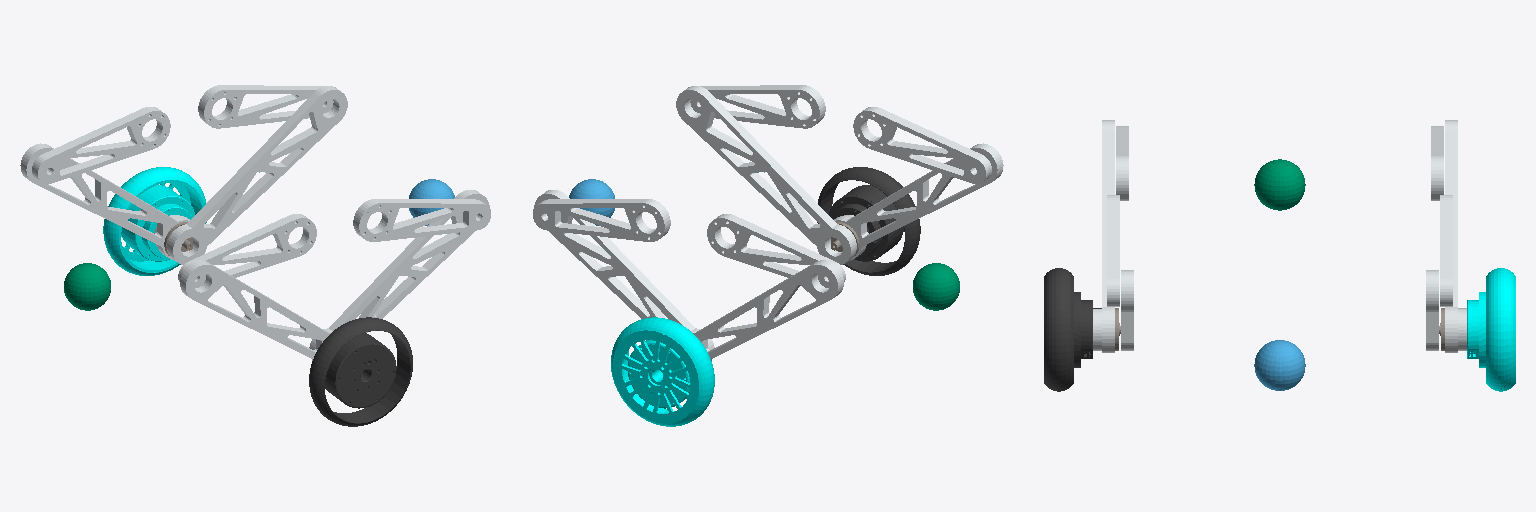
URDF robot description (hector_gazebo):
<?xml version="1.0" encoding="utf-8"?>
<!--
This URDF was automatically created by SolidWorks to URDF Exporter! Originally created by [author] ([email redacted])
Commit Version: 1.6.0-4-g7f85cfe  Build Version: 1.6.7995.38578
For more information, please see http://wiki.ros.org/sw_urdf_exporter
-->
<robot name="hector_gazebo">

	<transmission name="l_f_mt_tran">
		<type>transmission_interface/SimpleTransmission</type>
		<joint name="l_f_mt_joint">
			<hardwareInterface>hardware_interface/EffortJointInterface</hardwareInterface>
		</joint>
		<actuator name="l_f_mt_motor">
			<hardwareInterface>hardware_interface/EffortJointInterface</hardwareInterface>
			<mechanicalReduction>1</mechanicalReduction>
		</actuator>
	</transmission>

	<transmission name="l_b_mt_tran">
		<type>transmission_interface/SimpleTransmission</type>
		<joint name="l_b_mt_joint">
			<hardwareInterface>hardware_interface/EffortJointInterface</hardwareInterface>
		</joint>
		<actuator name="l_b_mt_motor">
			<hardwareInterface>hardware_interface/EffortJointInterface</hardwareInterface>
			<mechanicalReduction>1</mechanicalReduction>
		</actuator>
	</transmission>

	<transmission name="l_wheel_tran">
		<type>transmission_interface/SimpleTransmission</type>
		<joint name="l_wheel_joint">
			<hardwareInterface>hardware_interface/EffortJointInterface</hardwareInterface>
		</joint>
		<actuator name="l_wheel_motor">
			<hardwareInterface>hardware_interface/EffortJointInterface</hardwareInterface>
			<mechanicalReduction>1</mechanicalReduction>
		</actuator>
	</transmission>

	<transmission name="r_f_mt_tran">
		<type>transmission_interface/SimpleTransmission</type>
		<joint name="r_f_mt_joint">
			<hardwareInterface>hardware_interface/EffortJointInterface</hardwareInterface>
		</joint>
		<actuator name="r_f_mt_motor">
			<hardwareInterface>hardware_interface/EffortJointInterface</hardwareInterface>
			<mechanicalReduction>1</mechanicalReduction>
		</actuator>
	</transmission>

	<transmission name="r_b_mt_tran">
		<type>transmission_interface/SimpleTransmission</type>
		<joint name="r_b_mt_joint">
			<hardwareInterface>hardware_interface/EffortJointInterface</hardwareInterface>
		</joint>
		<actuator name="r_b_mt_motor">
			<hardwareInterface>hardware_interface/EffortJointInterface</hardwareInterface>
			<mechanicalReduction>1</mechanicalReduction>
		</actuator>
	</transmission>

	<transmission name="r_wheel_tran">
		<type>transmission_interface/SimpleTransmission</type>
		<joint name="r_wheel_joint">
			<hardwareInterface>hardware_interface/EffortJointInterface</hardwareInterface>
		</joint>
		<actuator name="r_wheel_motor">
			<hardwareInterface>hardware_interface/EffortJointInterface</hardwareInterface>
			<mechanicalReduction>1</mechanicalReduction>
		</actuator>
	</transmission>

	<!-- <link name="virtual_pitch_link">
	</link> -->
	<!-- <joint name="base_link_virtual_pitch_joint" type="revolute">
		<origin xyz="0.0 0 0" rpy="0 0 0" />
		<parent link="virtual_pitch_link" />
		<child link="base_link" />
		<axis xyz="0 1 0" />
		<limit lower="-3.14" upper="3.14" effort="21" velocity="21" />
	</joint> -->

	<link name="base_link">
		<inertial>
			<origin xyz="-0.00044958 -1.247E-05 -0.0266506" rpy="0 0 0" />
			<mass value="6.23175715" />
			<inertia ixx="0.13614361" ixy="-0.00014781" ixz="-0.00043513" iyy="0.06800572" iyz="-0.00028023" izz="0.18109383" />
		</inertial>
		<visual>
			<origin xyz="0 0 0" rpy="0 0 0" />
			<geometry>
				<mesh filename="package://ph_0320_01/meshes/base_link.STL" />
			</geometry>
			<material name="">
				<color rgba="0.75294 0.75294 0.75294 1" />
			</material>
		</visual>
		<collision>
			<!-- <origin xyz="0 0 0" rpy="0 0 0" />
			<geometry>
				<mesh filename="package://ph_0320_01/meshes/base_link.STL" />
			</geometry> -->
			<origin xyz="0 0 0" rpy="0 0 0" />
			<geometry>
				<box size="0.1 0.1 0.1" />
			</geometry>

		</collision>
	</link>

	<link name="front_wheel_link">
		<inertial>
			<origin xyz="0 0 0" rpy="0 0 0" />
			<mass value="0.0001" />
			<inertia ixx="0" ixy="0" ixz="0" iyy="0" iyz="0" izz="0" />
		</inertial>
		<visual>
			<origin xyz="0 0 0" rpy="0 0 0" />
			<geometry>
				<sphere radius="0.03"/>
			</geometry>
		</visual>
		<collision>
			<origin xyz="0 0 0" rpy="0 0 0" />
			<geometry>
				<sphere radius="0.03"/>
			</geometry>
		</collision>
	</link>
	<joint name="front_wheel_joint" type="continuous">
		<origin xyz="0.25 0 -0.1" rpy="0 0 0" />
		<parent link="base_link" />
		<child link="front_wheel_link" />
		<axis xyz="0 1 0" />
		<limit effort="21" velocity="21" />
	</joint>

	<link name="back_wheel_link">
		<inertial>
			<origin xyz="0 0 0" rpy="0 0 0" />
			<mass value="0.0001" />
			<inertia ixx="0" ixy="0" ixz="0" iyy="0" iyz="0" izz="0" />
		</inertial>
		<visual>
			<origin xyz="0 0 0" rpy="0 0 0" />
			<geometry>
				<sphere radius="0.03" />
			</geometry>
		</visual>
		<collision>
			<origin xyz="0 0 0" rpy="0 0 0" />
			<geometry>
				<sphere radius="0.03" />
			</geometry>
		</collision>
	</link>
	<joint name="back_wheel_joint" type="continuous">
		<origin xyz="-0.25 0 -0.1" rpy="0 0 0" />
		<parent link="base_link" />
		<child link="back_wheel_link" />
		<axis xyz="0 1 0" />
		<limit effort="21" velocity="21" />
	</joint>

	<link name="l_f_mt_link">
		<inertial>
			<origin xyz="0.065203 -0.0075 -0.012318" rpy="0 0 0" />
			<mass value="0.1952" />
			<inertia ixx="6.5309E-05" ixy="-1.1987E-18" ixz="0.00010178" iyy="0.00071046" iyz="2.2543E-19" izz="0.00065247" />
		</inertial>
		<visual>
			<origin xyz="0 0 0" rpy="0 0 0" />
			<geometry>
				<mesh filename="package://ph_0320_01/meshes/l_f_mt_link.STL" />
			</geometry>
			<material name="">
				<color rgba="0.89804 0.91765 0.92941 1" />
			</material>
		</visual>
		<collision>
			<!-- <origin xyz="0 0 0" rpy="0 0 0" />
			<geometry>
				<mesh filename="package://ph_0320_01/meshes/l_f_mt_link.STL" />
			</geometry> -->
			<origin xyz="0 0 0" rpy="0 0 0" />
			<geometry>
				<box size="0.01 0.01 0.01" />
			</geometry>
		</collision>
	</link>
	<joint name="l_f_mt_joint" type="revolute">
		<origin xyz="0.054 0.2025 0" rpy="0 0 0" />
		<parent link="base_link" />
		<child link="l_f_mt_link" />
		<axis xyz="0 1 0" />
		<limit lower="-0.5" upper="1.3" effort="21" velocity="21" />
	</joint>
	<link name="l_f_calf_link">
		<inertial>
			<origin xyz="-0.10183 -0.024 -0.072928" rpy="0 0 0" />
			<mass value="0.33548" />
			<inertia ixx="0.00092843" ixy="1.5198E-19" ixz="-0.0012109" iyy="0.0027191" iyz="1.3188E-19" izz="0.0018032" />
		</inertial>
		<visual>
			<origin xyz="0 0 0" rpy="0 0 0" />
			<geometry>
				<mesh filename="package://ph_0320_01/meshes/l_f_calf_link.STL" />
			</geometry>
			<material name="">
				<color rgba="0.89804 0.91765 0.92941 1" />
			</material>
		</visual>
		<collision>
			<origin xyz="0 0 0" rpy="0 0 0" />
			<geometry>
				<box size="0.01 0.01 0.01" />
			</geometry>
			<!-- <origin xyz="0 0 0" rpy="0 0 0" />
			<geometry>
				<mesh filename="package://ph_0320_01/meshes/l_f_calf_link.STL" />
			</geometry> -->
		</collision>
	</link>
	<joint name="l_f_calf_joint" type="continuous">
		<origin xyz="0.14759 0 -0.026755" rpy="0 0 0" />
		<parent link="l_f_mt_link" />
		<child link="l_f_calf_link" />
		<axis xyz="0 1 0" />
	</joint>
	<link name="l_f_ankle_link">
		<inertial>
			<origin xyz="-1.3097E-14 -0.013355 -9.7145E-16" rpy="0 0 0" />
			<mass value="0.058741" />
			<inertia ixx="8.5044E-06" ixy="1.2172E-21" ixz="1.131E-21" iyy="1.4613E-05" iyz="2.3265E-21" izz="8.5044E-06" />
		</inertial>
		<visual>
			<origin xyz="0 0 0" rpy="0 0 0" />
			<geometry>
				<mesh filename="package://ph_0320_01/meshes/l_f_ankle_link.STL" />
			</geometry>
			<material name="">
				<color rgba="0.64706 0.61961 0.58824 1" />
			</material>
		</visual>
		<collision>
			<origin xyz="0.0 -0.02 0" rpy="0 0 0" />
			<geometry>
				<box size="0.01 0.01 0.01" />
			</geometry>
			<!-- <origin xyz="0 0 0" rpy="0 0 0" />
			<geometry>
				<mesh filename="package://ph_0320_01/meshes/l_f_ankle_link.STL" />
			</geometry> -->
		</collision>
	</link>
	<joint name="l_f_ankle_joint" type="fixed">
		<origin xyz="-0.20382 0 -0.14477" rpy="0 0 0" />
		<parent link="l_f_calf_link" />
		<child link="l_f_ankle_link" />
		<axis xyz="0 1 0" />
	</joint>
	<link name="l_wheel_link">
		<inertial>
			<origin xyz="6.7739E-06 -0.003652 4.26E-06" rpy="0 0 0" />
			<mass value="0.43397" />
			<inertia ixx="0.0005395" ixy="-3.2822E-08" ixz="1.2521E-08" iyy="0.0010009" iyz="2.8724E-09" izz="0.0005395" />
		</inertial>
		<visual>
			<origin xyz="0 0 0" rpy="0 0 0" />
			<!-- <origin xyz="0 -0.01 0" rpy="1.570796327948966 0 0" /> -->
			<geometry>
				<mesh filename="package://ph_0320_01/meshes/l_wheel_link.STL" />
				<!-- <cylinder radius="0.0725" length="0.03" /> -->
			</geometry>
			<material name="">
				<color rgba="0 1 1 1" />
			</material>
		</visual>
		<collision>
			<origin xyz="0 0 0" rpy="0 0 0" />
			<!-- <origin xyz="0 -0.01 0" rpy="1.570796327948966 0 0" /> -->
			<geometry>
				<mesh filename="package://ph_0320_01/meshes/l_wheel_link.STL" />
				<!-- <cylinder radius="0.0725" length="0.03" /> -->
			</geometry>
		</collision>
	</link>
	<joint name="l_wheel_joint" type="continuous">
		<origin xyz="0 0.0562 0" rpy="0 0 0" />
		<parent link="l_f_ankle_link" />
		<child link="l_wheel_link" />
		<axis xyz="0 1 0" />
		<limit effort="21" velocity="210" />
	</joint>
	<link name="l_b_mt_link">
		<inertial>
			<origin xyz="-0.065581 -0.0185 -0.010115" rpy="0 0 0" />
			<mass value="0.1952" />
			<inertia ixx="5.9126E-05" ixy="2.3573E-19" ixz="-8.179E-05" iyy="0.00071046" iyz="9.8375E-20" izz="0.00065865" />
		</inertial>
		<visual>
			<origin xyz="0 0 0" rpy="0 0 0" />
			<geometry>
				<mesh filename="package://ph_0320_01/meshes/l_b_mt_link.STL" />
			</geometry>
			<material name="">
				<color rgba="0.89804 0.91765 0.92941 1" />
			</material>
		</visual>
		<collision>
			<origin xyz="0.0 0.0 0" rpy="0 0 0" />
			<geometry>
				<box size="0.01 0.01 0.01" />
			</geometry>
			<!-- <origin xyz="0 0 0" rpy="0 0 0" />
			<geometry>
				<mesh filename="package://ph_0320_01/meshes/l_b_mt_link.STL" />
			</geometry> -->
		</collision>
	</link>
	<joint name="l_b_mt_joint" type="revolute">
		<origin xyz="-0.054 0.2025 0" rpy="0 0 0" />
		<parent link="base_link" />
		<child link="l_b_mt_link" />
		<axis xyz="0 1 0" />
		<limit lower="-1.3" upper="0.5" effort="21" velocity="21" />
	</joint>
	<link name="l_b_calf_link">
		<inertial>
			<origin xyz="0.1018 -0.002 -0.075545" rpy="0 0 0" />
			<mass value="0.33882" />
			<inertia ixx="0.0010466" ixy="2.1185E-19" ixz="0.0012744" iyy="0.0028007" iyz="-1.5746E-19" izz="0.0017669" />
		</inertial>
		<visual>
			<origin xyz="0 0 0" rpy="0 0 0" />
			<geometry>
				<mesh filename="package://ph_0320_01/meshes/l_b_calf_link.STL" />
			</geometry>
			<material name="">
				<color rgba="0.89804 0.91765 0.92941 1" />
			</material>
		</visual>
		<collision>
			<origin xyz="0.0 0.0 0" rpy="0 0 0" />
			<geometry>
				<box size="0.01 0.01 0.01" />
			</geometry>
			<!-- <origin xyz="0 0 0" rpy="0 0 0" />
			<geometry>
				<mesh filename="package://ph_0320_01/meshes/l_b_calf_link.STL" />
			</geometry> -->
		</collision>
	</link>
	<joint name="l_b_calf_joint" type="continuous">
		<origin xyz="-0.14841 0 -0.021771" rpy="0 0 0" />
		<parent link="l_b_mt_link" />
		<child link="l_b_calf_link" />
		<axis xyz="0 1 0" />
	</joint>
	<link name="l_b_ankle_link">
		<inertial>
			<origin xyz="4.4235E-16 0.011 8.3267E-17" rpy="0 0 0" />
			<mass value="0.035754" />
			<inertia ixx="7.9369E-06" ixy="6.0657E-22" ixz="2.482E-21" iyy="1.5153E-05" iyz="7.0455E-22" izz="7.9369E-06" />
		</inertial>
		<visual>
			<origin xyz="0 0 0" rpy="0 0 0" />
			<geometry>
				<mesh filename="package://ph_0320_01/meshes/l_b_ankle_link.STL" />
			</geometry>
			<material name="">
				<color rgba="0.89804 0.91765 0.92941 1" />
			</material>
		</visual>
		<collision>
			<origin xyz="0.0 0.02 0" rpy="0 0 0" />
			<geometry>
				<box size="0.01 0.01 0.01" />
			</geometry>
			<!-- <origin xyz="0 0 0" rpy="0 0 0" />
			<geometry>
				<mesh filename="package://ph_0320_01/meshes/l_b_ankle_link.STL" />
			</geometry> -->
		</collision>
	</link>
	<joint name="l_b_ankle_joint" type="continuous">
		<origin xyz="0.20019 0 -0.14975" rpy="0 0 0" />
		<parent link="l_b_calf_link" />
		<child link="l_b_ankle_link" />
		<axis xyz="0 1 0" />
		<limit effort="21" velocity="210" />
	</joint>
	<link name="r_f_mt_link">
		<inertial>
			<origin xyz="0.065203 0.0075 -0.012318" rpy="0 0 0" />
			<mass value="0.1952" />
			<inertia ixx="6.5309E-05" ixy="1.1742E-18" ixz="0.00010178" iyy="0.00071046" iyz="-2.1495E-19" izz="0.00065247" />
		</inertial>
		<visual>
			<origin xyz="0 0 0" rpy="0 0 0" />
			<geometry>
				<mesh filename="package://ph_0320_01/meshes/r_f_mt_link.STL" />
			</geometry>
			<material name="">
				<color rgba="0.89804 0.91765 0.92941 1" />
			</material>
		</visual>
		<collision>
			<origin xyz="0.0 0.0 0" rpy="0 0 0" />
			<geometry>
				<box size="0.01 0.01 0.01" />
			</geometry>
			<!-- <origin xyz="0 0 0" rpy="0 0 0" />
			<geometry>
				<mesh filename="package://ph_0320_01/meshes/r_f_mt_link.STL" />
			</geometry> -->
		</collision>
	</link>
	<joint name="r_f_mt_joint" type="revolute">
		<origin xyz="0.054 -0.2025 0" rpy="0 0 0" />
		<parent link="base_link" />
		<child link="r_f_mt_link" />
		<axis xyz="0 1 0" />
		<limit lower="-0.5" upper="1.3" effort="21" velocity="21" />
	</joint>
	<link name="r_f_calf_link">
		<inertial>
			<origin xyz="-0.10183 0.024 -0.072928" rpy="0 0 0" />
			<mass value="0.33548" />
			<inertia ixx="0.00092843" ixy="5.3701E-20" ixz="-0.0012109" iyy="0.0027191" iyz="5.5085E-20" izz="0.0018032" />
		</inertial>
		<visual>
			<origin xyz="0 0 0" rpy="0 0 0" />
			<geometry>
				<mesh filename="package://ph_0320_01/meshes/r_f_calf_link.STL" />
			</geometry>
			<material name="">
				<color rgba="0.89804 0.91765 0.92941 1" />
			</material>
		</visual>
		<collision>
			<origin xyz="0.0 0.0 0" rpy="0 0 0" />
			<geometry>
				<box size="0.01 0.01 0.01" />
			</geometry>
			<!-- <origin xyz="0 0 0" rpy="0 0 0" />
			<geometry>
				<mesh filename="package://ph_0320_01/meshes/r_f_calf_link.STL" />
			</geometry> -->
		</collision>
	</link>
	<joint name="r_f_calf_joint" type="continuous">
		<origin xyz="0.14759 0 -0.026755" rpy="0 0 0" />
		<parent link="r_f_mt_link" />
		<child link="r_f_calf_link" />
		<axis xyz="0 1 0" />
	</joint>
	<link name="r_f_ankle_link">
		<inertial>
			<origin xyz="-1.3076E-14 0.013355 -9.992E-16" rpy="0 0 0" />
			<mass value="0.058741" />
			<inertia ixx="8.5044E-06" ixy="1.3112E-21" ixz="1.5879E-21" iyy="1.4613E-05" iyz="-1.2581E-21" izz="8.5044E-06" />
		</inertial>
		<visual>
			<origin xyz="0 0 0" rpy="0 0 0" />
			<geometry>
				<mesh filename="package://ph_0320_01/meshes/r_f_ankle_link.STL" />
			</geometry>
			<material name="">
				<color rgba="0.64706 0.61961 0.58824 1" />
			</material>
		</visual>
		<collision>
			<origin xyz="0.0 0.02 0" rpy="0 0 0" />
			<geometry>
				<box size="0.01 0.01 0.01" />
			</geometry>
			<!-- <origin xyz="0 0 0" rpy="0 0 0" />
			<geometry>
				<mesh filename="package://ph_0320_01/meshes/r_f_ankle_link.STL" />
			</geometry> -->
		</collision>
	</link>
	<joint name="r_f_ankle_joint" type="fixed">
		<origin xyz="-0.20382 0 -0.14477" rpy="0 0 0" />
		<parent link="r_f_calf_link" />
		<child link="r_f_ankle_link" />
		<axis xyz="0 1 0" />
	</joint>
	<link name="r_wheel_link">
		<inertial>
			<origin xyz="-2.3366E-06 0.0089279 -8.278E-06" rpy="0 0 0" />
			<mass value="0.40373" />
			<inertia ixx="0.00044034" ixy="1.2024E-08" ixz="8.7688E-09" iyy="0.00081663" iyz="-3.0675E-08" izz="0.00044036" />
		</inertial>
		<visual>
			<origin xyz="0 0 0" rpy="0 0 0" />
			<geometry>
				<mesh filename="package://ph_0320_01/meshes/r_wheel_link.STL" />
				<!-- <cylinder radius="0.0725" length="0.03" /> -->
			</geometry>
			<material name="">
				<color rgba="0.29804 0.29804 0.29804 1" />
			</material>
		</visual>
		<collision>
			<!-- <origin xyz="0 0.01 0" rpy="1.570796327948966 0 0" /> -->
			<origin xyz="0 0 0" rpy="0 0 0" />
			<geometry>
				<mesh filename="package://ph_0320_01/meshes/r_wheel_link.STL" />
				<!-- <cylinder radius="0.0725" length="0.03" /> -->
			</geometry>
		</collision>
	</link>
	<joint name="r_wheel_joint" type="continuous">
		<origin xyz="0 -0.0562 0" rpy="0 0 0" />
		<parent link="r_f_ankle_link" />
		<child link="r_wheel_link" />
		<axis xyz="0 1 0" />
		<limit effort="21" velocity="210" />
	</joint>
	<link name="r_b_mt_link">
		<inertial>
			<origin xyz="-0.065581 0.0185 -0.010115" rpy="0 0 0" />
			<mass value="0.1952" />
			<inertia ixx="5.9126E-05" ixy="-9.0948E-20" ixz="-8.179E-05" iyy="0.00071046" iyz="-8.6667E-20" izz="0.00065865" />
		</inertial>
		<visual>
			<origin xyz="0 0 0" rpy="0 0 0" />
			<geometry>
				<mesh filename="package://ph_0320_01/meshes/r_b_mt_link.STL" />
			</geometry>
			<material name="">
				<color rgba="0.89804 0.91765 0.92941 1" />
			</material>
		</visual>
		<collision>
			<origin xyz="0.0 0.0 0" rpy="0 0 0" />
			<geometry>
				<box size="0.01 0.01 0.01" />
			</geometry>
			<!-- <origin xyz="0 0 0" rpy="0 0 0" />
			<geometry>
				<mesh filename="package://ph_0320_01/meshes/r_b_mt_link.STL" />
			</geometry> -->
		</collision>
	</link>
	<joint name="r_b_mt_joint" type="revolute">
		<origin xyz="-0.054 -0.2025 0" rpy="0 0 0" />
		<parent link="base_link" />
		<child link="r_b_mt_link" />
		<axis xyz="0 1 0" />
		<limit lower="-1.3" upper="0.5" effort="21" velocity="21" />
	</joint>
	<link name="r_b_calf_link">
		<inertial>
			<origin xyz="0.1018 0.002 -0.075545" rpy="0 0 0" />
			<mass value="0.33882" />
			<inertia ixx="0.0010466" ixy="-5.0995E-19" ixz="0.0012744" iyy="0.0028007" iyz="3.0887E-19" izz="0.0017669" />
		</inertial>
		<visual>
			<origin xyz="0 0 0" rpy="0 0 0" />
			<geometry>
				<mesh filename="package://ph_0320_01/meshes/r_b_calf_link.STL" />
			</geometry>
			<material name="">
				<color rgba="0.89804 0.91765 0.92941 1" />
			</material>
		</visual>
		<collision>
			<origin xyz="0.0 0.0 0" rpy="0 0 0" />
			<geometry>
				<box size="0.01 0.01 0.01" />
			</geometry>
			<!-- <origin xyz="0 0 0" rpy="0 0 0" />
			<geometry>
				<mesh filename="package://ph_0320_01/meshes/r_b_calf_link.STL" />
			</geometry> -->
		</collision>
	</link>
	<joint name="r_b_calf_joint" type="continuous">
		<origin xyz="-0.14841 0 -0.021771" rpy="0 0 0" />
		<parent link="r_b_mt_link" />
		<child link="r_b_calf_link" />
		<axis xyz="0 1 0" />
	</joint>
	<link name="r_b_ankle_link">
		<inertial>
			<origin xyz="4.0766E-16 -0.011 2.7756E-17" rpy="0 0 0" />
			<mass value="0.035754" />
			<inertia ixx="7.9369E-06" ixy="-3.4059E-22" ixz="9.4221E-22" iyy="1.5153E-05" iyz="-7.1044E-22" izz="7.9369E-06" />
		</inertial>
		<visual>
			<origin xyz="0 0 0" rpy="0 0 0" />
			<geometry>
				<mesh filename="package://ph_0320_01/meshes/r_b_ankle_link.STL" />
			</geometry>
			<material name="">
				<color rgba="0.89804 0.91765 0.92941 1" />
			</material>
		</visual>
		<collision>
			<origin xyz="0.0 -0.02 0" rpy="0 0 0" />
			<geometry>
				<box size="0.01 0.01 0.01" />
			</geometry>
			<!-- <origin xyz="0 0 0" rpy="0 0 0" />
			<geometry>
				<mesh filename="package://ph_0320_01/meshes/r_b_ankle_link.STL" />
			</geometry> -->
		</collision>
	</link>
	<joint name="r_b_ankle_joint" type="continuous">
		<origin xyz="0.20019 0 -0.14975" rpy="0 0 0" />
		<parent link="r_b_calf_link" />
		<child link="r_b_ankle_link" />
		<axis xyz="0 1 0" />
		<limit effort="21" velocity="210" />
	</joint>
	<gazebo>
		<plugin name="gazebo_ros_control" filename="libgazebo_ros_control.so">
			<robotNamespace>/hector_gazebo</robotNamespace>
			<robotSimType>gazebo_ros_control/DefaultRobotHWSim</robotSimType>
		</plugin>
	</gazebo>

	<gazebo>
		<joint name="r_ankle" type="fixed">
			<pose relative_to="r_b_ankle_link"> 0.0 0. 0.0 0 0 0 </pose>
			<parent>r_b_ankle_link</parent>
			<child>r_wheel_link</child>
		</joint>
	</gazebo>

	<gazebo>
		<joint name="l_ankle" type="fixed">
			<pose relative_to="l_b_ankle_link"> 0.0 0 0.0 0 0 0 </pose>
			<parent>l_b_ankle_link</parent>
			<child>l_wheel_link</child>
		</joint>
	</gazebo>

	<joint name="imu_joint" type="fixed">
		<parent link="base_link"/>
		<child link="imu_link"/>
		<origin rpy="0 0 0" xyz="0 0 0"/>
	</joint>

	<link name="imu_link">
		<inertial>
			<mass value="0.001"/>
			<origin rpy="0 0 0" xyz="0 0 0"/>
			<inertia ixx="0.0001" ixy="0" ixz="0" iyy="0.0001" iyz="0" izz="0.0001"/>
		</inertial>
		<visual>
			<origin rpy="0 0 0" xyz="0 0 0"/>
			<geometry>
				<box size="0.001 0.001 0.001"/>
			</geometry>
			<material name="red"/>
		</visual>
		<collision>
			<origin rpy="0 0 0" xyz="0 0 0"/>
			<geometry>
				<box size=".001 .001 .001"/>
			</geometry>
		</collision>
	</link>
	<gazebo>
		<plugin name="imu_plugin" filename="libgazebo_ros_imu.so">
			<alwaysOn>true</alwaysOn>
			<bodyName>imu_link</bodyName>
			<topicName>imu</topicName>
			<serviceName>imu_service</serviceName>
			<gaussianNoise>0.0</gaussianNoise>
			<updateRate>1000.0</updateRate>
		</plugin>
	</gazebo>
	<!-- <gazebo reference="imu_link">
		<sensor name="imu_sensor" type="imu">
			<plugin filename="libgazebo_ros_imu_sensor.so" name="imu_plugin">
				<topicName>imu</topicName>
				<initial_orientation_as_reference>true</initial_orientation_as_reference>
			</plugin>
			<always_on>true</always_on>
			<update_rate>1000</update_rate>
			<visualize>true</visualize>
		</sensor>
	</gazebo> -->


	<!-- <gazebo>
		<joint name="base_link_fixed_joint" type="fixed">
			<pose relative_to="base_link"> 0.0 0.0 0. 0 0 0 </pose>
			<parent>world</parent>
			<child>base_link</child>
		</joint>
	</gazebo> -->


	<gazebo reference="r_wheel_link">
		<mu1>100</mu1>
		<mu2>50</mu2>
	</gazebo>
	<gazebo reference="l_wheel_link">
		<mu1>100</mu1>
		<mu2>50</mu2>
	</gazebo>

	<!-- <gazebo>
		<joint name="virtual_pitch_prismatic_joint" type="prismatic">
			<parent>world</parent>
			<child>base_link</child>
			<axis>
				<xyz>1 0 0 </xyz>
				<limit>
					<lower> -0.3</lower>
					<upper> 0.3 </upper>
					<effort> 1000000 </effort>
					<velocity> [number redacted] </velocity>
				</limit>
			</axis>
		</joint>
	</gazebo> -->
	<gazebo>
		<joint name="r_wheel_link_fixed_joint" type="fixed">
			<parent>world</parent>
			<child>r_wheel_link</child>
		</joint>
	</gazebo>
	<gazebo>
		<joint name="l_wheel_link_fixed_joint" type="fixed">
			<parent>world</parent>
			<child>l_wheel_link</child>
		</joint>
	</gazebo>
</robot>

--- Render facts (derived) ---
Views: 3 orthographic renders of the robot side by side, from view 1: azimuth 30°, elevation 25°; view 2: azimuth 150°, elevation 25°; view 3: azimuth 270°, elevation 25°.
Model hector_gazebo with 18 links and 17 joints (4 revolute, 10 continuous, 3 fixed), rooted at base_link, posed all joints at 0.
Visible links, largest first — view 1: r_wheel_link, l_f_calf_link, l_wheel_link, r_f_calf_link, l_b_mt_link, r_b_calf_link, r_f_mt_link, l_b_calf_link, r_b_mt_link, l_f_mt_link, back_wheel_link, front_wheel_link; view 2: l_wheel_link, r_f_calf_link, r_wheel_link, l_f_calf_link, r_b_mt_link, l_b_calf_link, l_f_mt_link, r_b_calf_link, l_b_mt_link, r_f_mt_link, back_wheel_link, front_wheel_link; view 3: r_wheel_link, l_wheel_link, l_b_calf_link, r_b_calf_link, front_wheel_link, back_wheel_link, l_f_mt_link, r_f_mt_link, l_f_calf_link, r_f_calf_link, l_b_mt_link, r_b_mt_link.
Boxes of the visible links, bbox=[...] form: r_wheel_link: bbox=[309, 317, 412, 426]; l_f_calf_link: bbox=[167, 86, 347, 264]; l_wheel_link: bbox=[103, 167, 206, 275]; r_f_calf_link: bbox=[309, 190, 489, 360]; l_b_mt_link: bbox=[32, 107, 170, 183]; r_b_calf_link: bbox=[180, 260, 329, 358]; r_f_mt_link: bbox=[353, 199, 490, 241]; l_b_calf_link: bbox=[20, 143, 189, 260]; r_b_mt_link: bbox=[178, 214, 316, 287]; l_f_mt_link: bbox=[198, 85, 333, 128]; back_wheel_link: bbox=[64, 263, 110, 310]; front_wheel_link: bbox=[409, 179, 454, 225]; l_wheel_link: bbox=[611, 317, 714, 426]; r_f_calf_link: bbox=[676, 86, 856, 264]; r_wheel_link: bbox=[817, 167, 920, 275]; l_f_calf_link: bbox=[534, 190, 714, 360]; r_b_mt_link: bbox=[853, 107, 991, 183]; l_b_calf_link: bbox=[694, 260, 843, 358]; l_f_mt_link: bbox=[533, 199, 670, 241]; r_b_calf_link: bbox=[834, 143, 1003, 260]; l_b_mt_link: bbox=[707, 214, 845, 287]; r_f_mt_link: bbox=[690, 85, 825, 128]; back_wheel_link: bbox=[913, 263, 959, 310]; front_wheel_link: bbox=[569, 179, 614, 225]; r_wheel_link: bbox=[1044, 268, 1101, 391]; l_wheel_link: bbox=[1467, 268, 1515, 391]; l_b_calf_link: bbox=[1445, 120, 1457, 352]; r_b_calf_link: bbox=[1102, 120, 1114, 352]; front_wheel_link: bbox=[1254, 340, 1305, 390]; back_wheel_link: bbox=[1254, 159, 1305, 210]; l_f_mt_link: bbox=[1440, 195, 1452, 306]; r_f_mt_link: bbox=[1107, 195, 1119, 306]; l_f_calf_link: bbox=[1426, 270, 1438, 350]; r_f_calf_link: bbox=[1121, 270, 1133, 350]; l_b_mt_link: bbox=[1431, 126, 1443, 200]; r_b_mt_link: bbox=[1116, 126, 1128, 200].
Size in the robot's own frame: 0.56 by 0.5514 by 0.2705 metres.
Meshes: 15 distinct files referenced, 14 mesh visuals loaded (14 binary STL); not drawn: 1 (reference not matched to a file when rendering).
